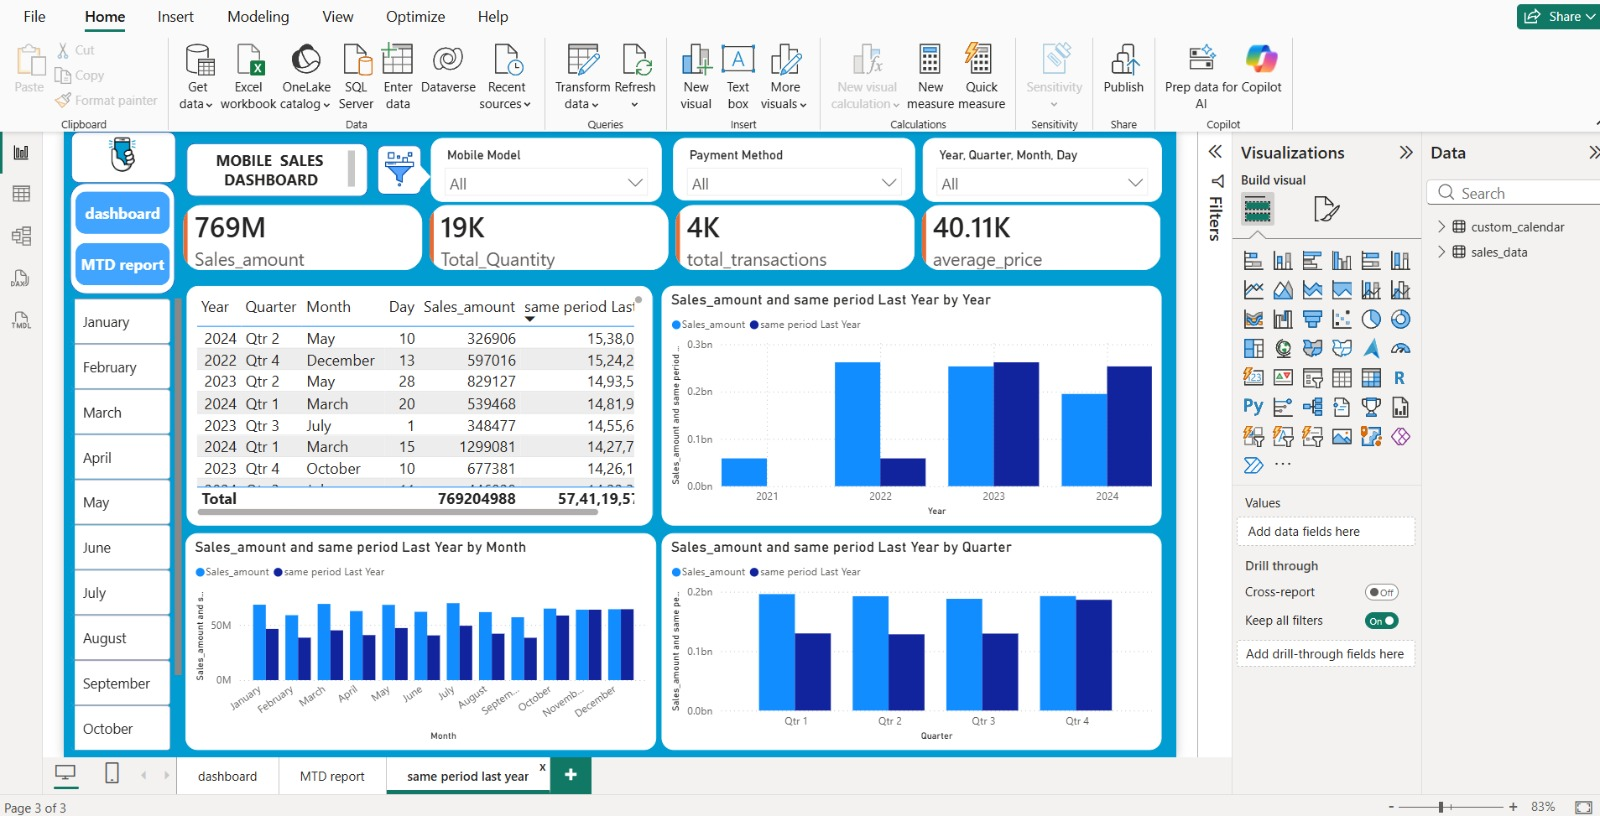

The page's visual inventory and layout, read from the dashboard file:
{"tool":"powerbi","page":{"name":"same period last year","canvas":[1280,720],"ordinal":2},"visuals":[{"type":"shape","box":[8.4,0,120.6,59.1],"z":0},{"type":"image","box":[8.2,0,118,52.1],"z":1000},{"type":"shape","box":[7.2,59.1,120.6,127.9],"z":2000},{"type":"slicer","fields":{"Values":["sales_data.Mobile Model"]},"box":[422.3,7.2,265.4,73.6],"z":3000},{"type":"slicer","fields":{"Values":["sales_data.Payment Method"]},"box":[700.9,7.2,278.7,72.4],"z":4000},{"type":"slicer","fields":{"Values":["custom_calendar.date.Variation.Date Hierarchy.Year","custom_calendar.date.Variation.Date Hierarchy.Quarter","custom_calendar.date.Variation.Date Hierarchy.Month","custom_calendar.date.Variation.Date Hierarchy.Day"]},"box":[988.1,7.2,275.1,73.6],"z":5000},{"type":"shape","box":[360.7,15.7,50.7,56.7],"z":6000},{"type":"shape","box":[141.2,13.3,208.7,61.5],"z":7000},{"type":"image","box":[349.9,22.9,72.4,41],"z":8000},{"type":"textbox","box":[170.1,16.9,170.1,53.1],"z":9000},{"type":"cardVisual","fields":{"Data":["sales_data.Sales_amount","sales_data.Total_Quantity","sales_data.total_transactions","sales_data.average_price"]},"box":[120.6,67.6,1159.4,109.8],"z":10000},{"type":"shape","box":[398.1,38.6,24.1,26.5],"z":11000},{"type":"advancedSlicerVisual","fields":{"Values":["custom_calendar.date.Variation.Date Hierarchy.Month"]},"box":[3.6,187,137.5,533.2],"z":12000},{"type":"clusteredColumnChart","fields":{"Category":["custom_calendar.date.Variation.Date Hierarchy.Year","custom_calendar.date.Variation.Date Hierarchy.Quarter","custom_calendar.date.Variation.Date Hierarchy.Month","custom_calendar.date.Variation.Date Hierarchy.Day"],"Y":["sales_data.Sales_amount","sales_data.same period Last Year"]},"box":[687.7,177.3,575.5,276.3],"z":13000},{"type":"tableEx","fields":{"Values":["custom_calendar.date.Variation.Date Hierarchy.Year","custom_calendar.date.Variation.Date Hierarchy.Quarter","custom_calendar.date.Variation.Date Hierarchy.Month","custom_calendar.date.Variation.Date Hierarchy.Day","sales_data.Sales_amount","sales_data.same period Last Year"]},"box":[141.2,177.3,535.7,276.3],"z":14000},{"type":"clusteredColumnChart","fields":{"Category":["custom_calendar.date.Variation.Date Hierarchy.Year","custom_calendar.date.Variation.Date Hierarchy.Quarter","custom_calendar.date.Variation.Date Hierarchy.Month","custom_calendar.date.Variation.Date Hierarchy.Day"],"Y":["sales_data.Sales_amount","sales_data.same period Last Year"]},"box":[139.9,462.1,541.7,249.7],"z":15000},{"type":"clusteredColumnChart","fields":{"Category":["custom_calendar.date.Variation.Date Hierarchy.Year","custom_calendar.date.Variation.Date Hierarchy.Quarter","custom_calendar.date.Variation.Date Hierarchy.Month","custom_calendar.date.Variation.Date Hierarchy.Day"],"Y":["sales_data.Sales_amount","sales_data.same period Last Year"]},"box":[687.7,462.1,575.5,249.7],"z":16000},{"type":"pageNavigator","box":[13.3,68.8,109.8,109.8],"z":17000}]}

Visuals, with their boxes on the page's 1280x720 design canvas (x1, y1, x2, y2). These are canvas units, not pixel positions in the 1600x816 screenshot, which may show the page scaled, cropped or inside an application window:
shape: <bbox>8, 0, 129, 59</bbox>
image: <bbox>8, 0, 126, 52</bbox>
shape: <bbox>7, 59, 128, 187</bbox>
slicer - sales_data.Mobile Model: <bbox>422, 7, 688, 81</bbox>
slicer - sales_data.Payment Method: <bbox>701, 7, 980, 80</bbox>
slicer - custom_calendar.date.Variation.Date Hierarchy.Year x custom_calendar.date.Variation.Date Hierarchy.Quarter: <bbox>988, 7, 1263, 81</bbox>
shape: <bbox>361, 16, 411, 72</bbox>
shape: <bbox>141, 13, 350, 75</bbox>
image: <bbox>350, 23, 422, 64</bbox>
textbox: <bbox>170, 17, 340, 70</bbox>
cardVisual - sales_data.Sales_amount x sales_data.Total_Quantity: <bbox>121, 68, 1280, 177</bbox>
shape: <bbox>398, 39, 422, 65</bbox>
advancedSlicerVisual - custom_calendar.date.Variation.Date Hierarchy.Month: <bbox>4, 187, 141, 720</bbox>
clusteredColumnChart - custom_calendar.date.Variation.Date Hierarchy.Year x custom_calendar.date.Variation.Date Hierarchy.Quarter: <bbox>688, 177, 1263, 454</bbox>
tableEx - custom_calendar.date.Variation.Date Hierarchy.Year x custom_calendar.date.Variation.Date Hierarchy.Quarter: <bbox>141, 177, 677, 454</bbox>
clusteredColumnChart - custom_calendar.date.Variation.Date Hierarchy.Year x custom_calendar.date.Variation.Date Hierarchy.Quarter: <bbox>140, 462, 682, 712</bbox>
clusteredColumnChart - custom_calendar.date.Variation.Date Hierarchy.Year x custom_calendar.date.Variation.Date Hierarchy.Quarter: <bbox>688, 462, 1263, 712</bbox>
pageNavigator: <bbox>13, 69, 123, 179</bbox>
